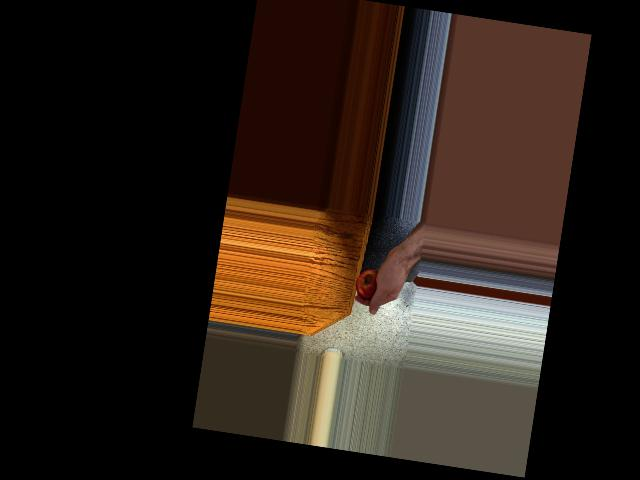apple: (352, 263, 391, 303)
